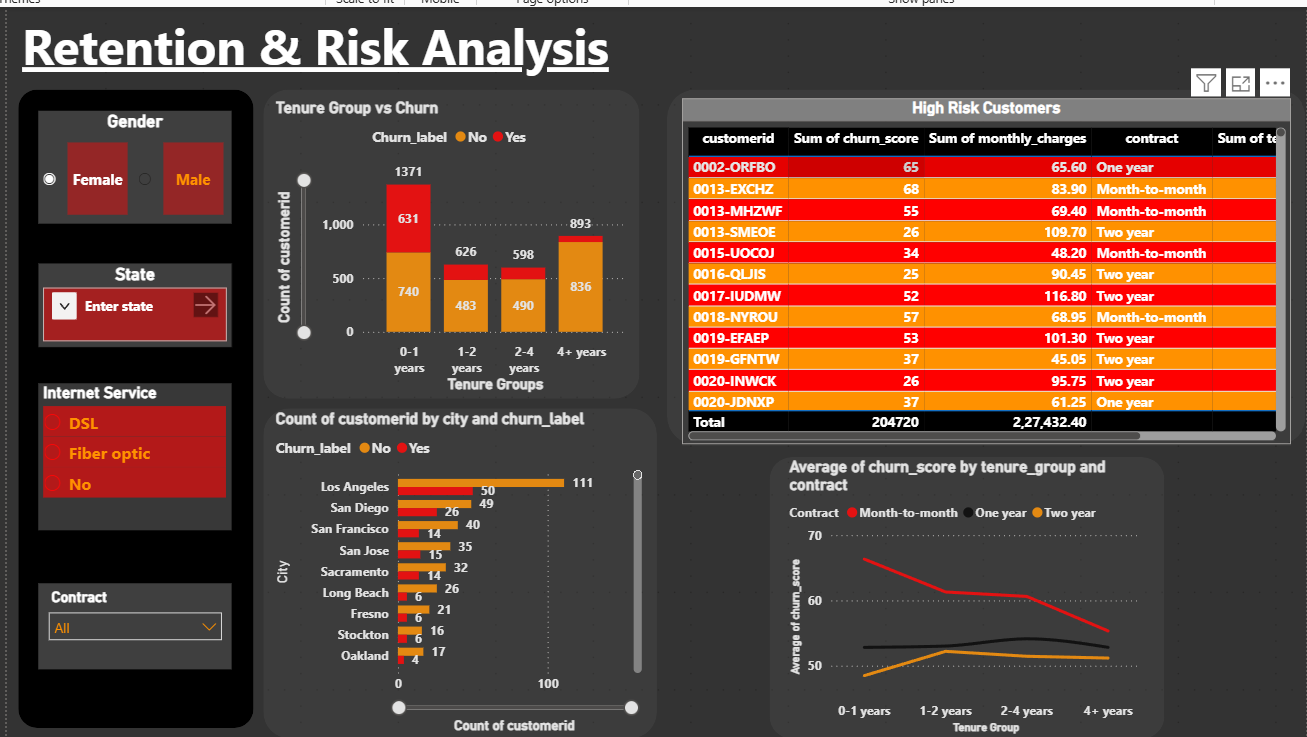

The dashboard page shown, as its layout file describes it:
{"tool":"powerbi","page":{"name":"Retention & Risk Analysis","canvas":[1280,720],"ordinal":2},"visuals":[{"type":"shape","box":[10.9,80.8,231.6,628.6],"z":0},{"type":"advancedSlicerVisual","title":"Gender","fields":{"Values":["customer.gender"]},"box":[31.4,102.5,190.6,111],"z":1},{"type":"textSlicer","title":"State","fields":{"Values":["customer.state"]},"box":[31.4,252.1,190.6,82],"z":2},{"type":"listSlicer","title":"Internet Service","fields":{"Values":["customer.internet_service"]},"box":[31.4,370.4,190.6,144.8],"z":3},{"type":"slicer","fields":{"Values":["customer.contract"]},"box":[31.4,567,190.6,84.5],"z":4},{"type":"shape","box":[649.3,80.7,629.8,349.7],"z":5},{"type":"textbox","box":[10.3,0,1111.3,80.6],"z":6},{"type":"columnChart","title":"Tenure Group vs Churn","fields":{"Category":["customer.tenure_group"],"Y":["CountNonNull(customer.customerid)"],"Series":["customer.churn_label"]},"box":[259.2,89.3,355.8,294.7],"z":7},{"type":"tableEx","title":"High Risk Customers","fields":{"Values":["customer.customerid","Sum(customer.churn_score)","Sum(customer.monthly_charges)","customer.contract","Sum(customer.tenure_months)","customer.churn_label"]},"box":[665.2,89.3,599.2,341.2],"z":8},{"type":"shape","box":[251.9,80.7,370.5,304.5],"z":9},{"type":"lineChart","fields":{"Category":["customer.tenure_group"],"Series":["customer.contract"],"Y":["Avg(customer.churn_score)"]},"box":[765.5,442.7,355.8,277.6],"z":10},{"type":"shape","box":[750.8,442.7,388.9,277.6],"z":11},{"type":"clusteredBarChart","fields":{"Y":["CountNonNull(customer.customerid)"],"Category":["customer.city"],"Series":["customer.churn_label"]},"box":[259.2,396.2,370.5,324.1],"z":12},{"type":"shape","box":[251.9,395,387.6,325.3],"z":13}]}

Visuals, with their boxes on the page's 1280x720 design canvas (x1, y1, x2, y2). These are canvas units, not pixel positions in the 1307x737 screenshot, which may show the page scaled, cropped or inside an application window:
shape: bbox=[11, 81, 242, 709]
"Gender" advancedSlicerVisual: bbox=[31, 102, 222, 214]
"State" textSlicer: bbox=[31, 252, 222, 334]
"Internet Service" listSlicer: bbox=[31, 370, 222, 515]
slicer - customer.contract: bbox=[31, 567, 222, 652]
shape: bbox=[649, 81, 1279, 430]
textbox: bbox=[10, 0, 1122, 81]
"Tenure Group vs Churn" columnChart: bbox=[259, 89, 615, 384]
"High Risk Customers" tableEx: bbox=[665, 89, 1264, 430]
shape: bbox=[252, 81, 622, 385]
lineChart - customer.tenure_group x customer.contract: bbox=[766, 443, 1121, 720]
shape: bbox=[751, 443, 1140, 720]
clusteredBarChart - CountNonNull(customer.customerid) x customer.city: bbox=[259, 396, 630, 720]
shape: bbox=[252, 395, 640, 720]
